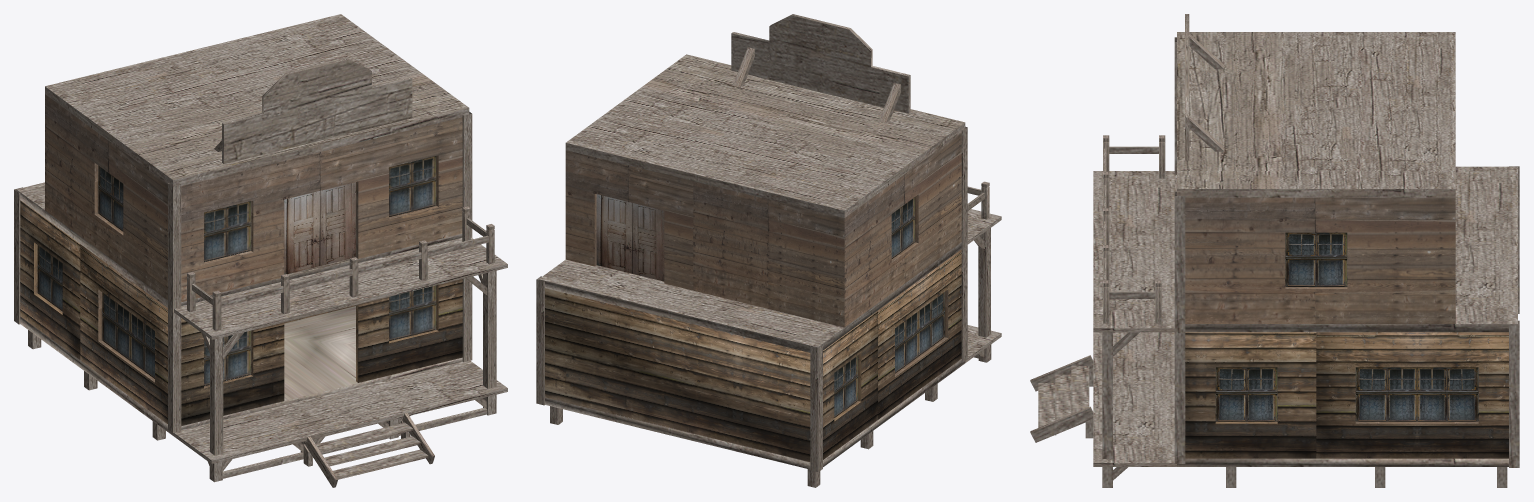
File: bank.fbx
The picture shows the model from 3 angles, left to right: view 1: azimuth 30°, elevation 25°; view 2: azimuth 150°, elevation 25°; view 3: azimuth 270°, elevation 25°; orthographic projection. The views are drawn at different scales.
Visible parts, largest first — view 1: Plane004, House3, Box005, Plane003, Box007, Box033, Box006, Box003, Box004, Box021, Box020, Box009 (+10 smaller); view 2: House3, Box005, Box004, Box033, Box003, Box032, Box009, Box022, Box021, Box020, Box006, Box007; view 3: House3, Box005, Box004, Box006, Box007, Box003, Box019, Box022, Box018, Box010, Box096, Box090 (+4 smaller).
Part boxes in pixels (x1,y1,x2,y2): Plane004: (181,117,462,301); House3: (20,94,167,423); Box005: (45,14,469,186); Plane003: (181,279,462,425); Box007: (173,360,507,463); Box033: (222,58,412,163); Box006: (174,237,507,339); Box003: (20,306,462,435); Box004: (16,182,462,307); Box021: (168,183,181,312); Box020: (168,309,181,432); Box009: (210,337,223,455); House3: (545,133,961,461); Box005: (565,54,965,217); Box004: (538,242,961,352); Box033: (731,14,910,113); Box003: (545,359,965,469); Box032: (810,345,822,472); Box009: (978,228,990,337); Box022: (536,276,544,405); Box021: (961,126,967,249); Box020: (961,246,967,362); Box006: (967,209,1001,244); Box007: (965,325,1001,362); House3: (1185,197,1508,458); Box005: (1177,32,1455,197); Box004: (1185,166,1517,332); Box006: (1093,171,1176,332); Box007: (1093,332,1176,466); Box003: (1177,458,1508,466); Box019: (1174,191,1185,333); Box022: (1509,320,1519,467); Box018: (1174,333,1185,463); Box010: (1102,332,1112,458); Box096: (1030,406,1093,442); Box090: (1071,366,1089,414).
Bounding box in the file's own units: 809 × 922 × 1053.
